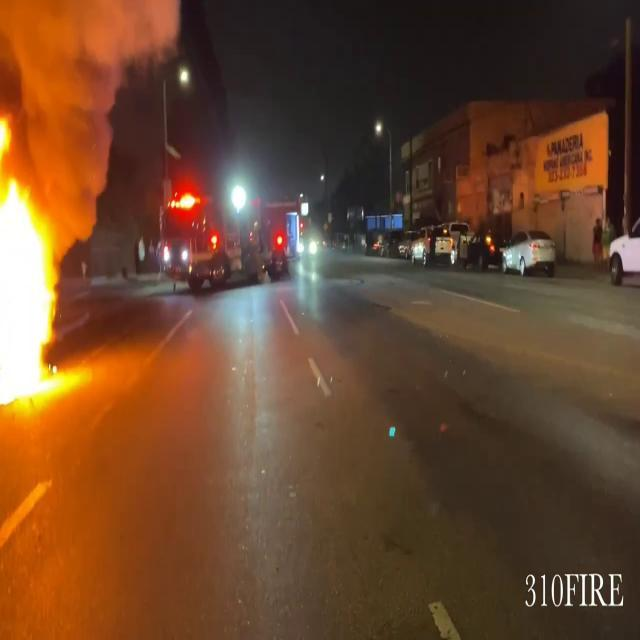Fire: (0, 115, 68, 412)
Smoke: (2, 0, 186, 201)
